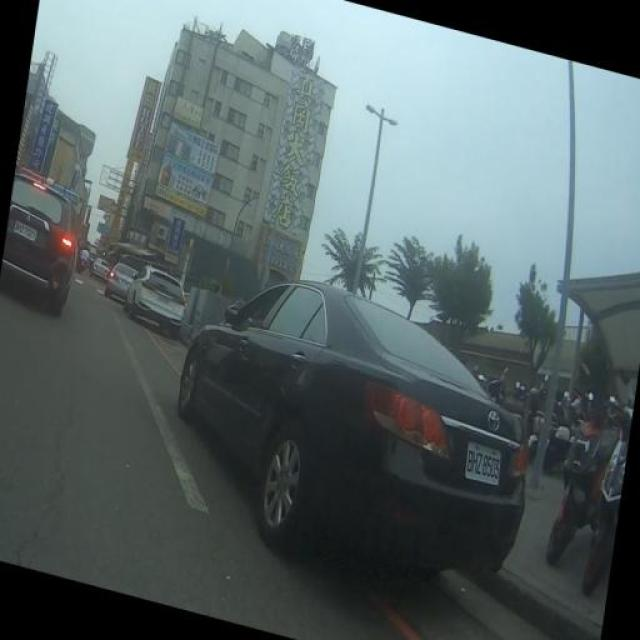illegalparking: (190, 267, 543, 594)
